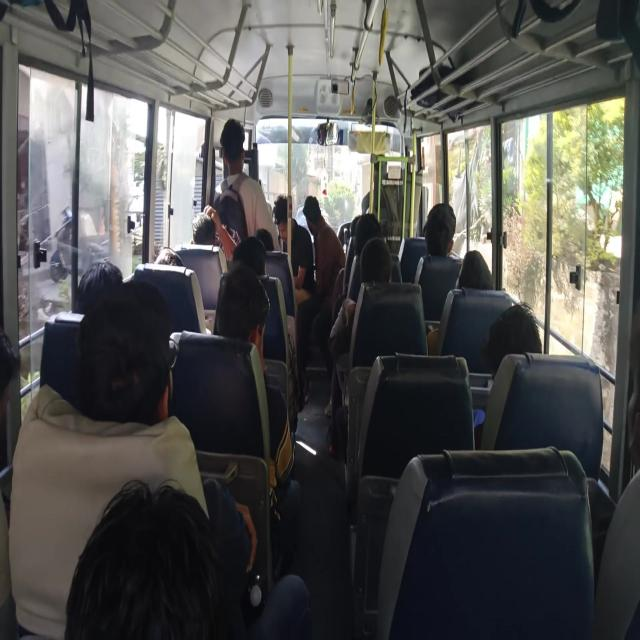person: (63, 479, 226, 639), (73, 287, 171, 426), (479, 302, 544, 379), (213, 264, 270, 348), (620, 295, 640, 483), (75, 260, 123, 316), (132, 279, 173, 338), (423, 202, 456, 258), (0, 323, 20, 412), (359, 234, 392, 287), (231, 236, 268, 277), (457, 250, 493, 291), (353, 212, 382, 259), (270, 193, 298, 236), (302, 192, 329, 235), (220, 119, 246, 158), (190, 212, 216, 246), (254, 228, 276, 254), (154, 248, 184, 267), (349, 212, 362, 242)
